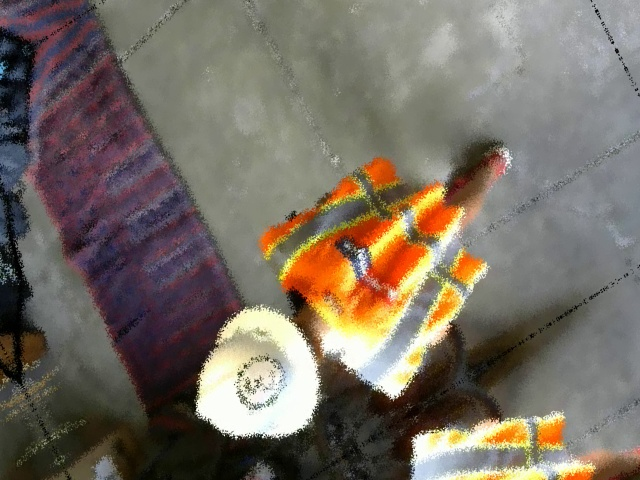three: (228, 347, 292, 417)
